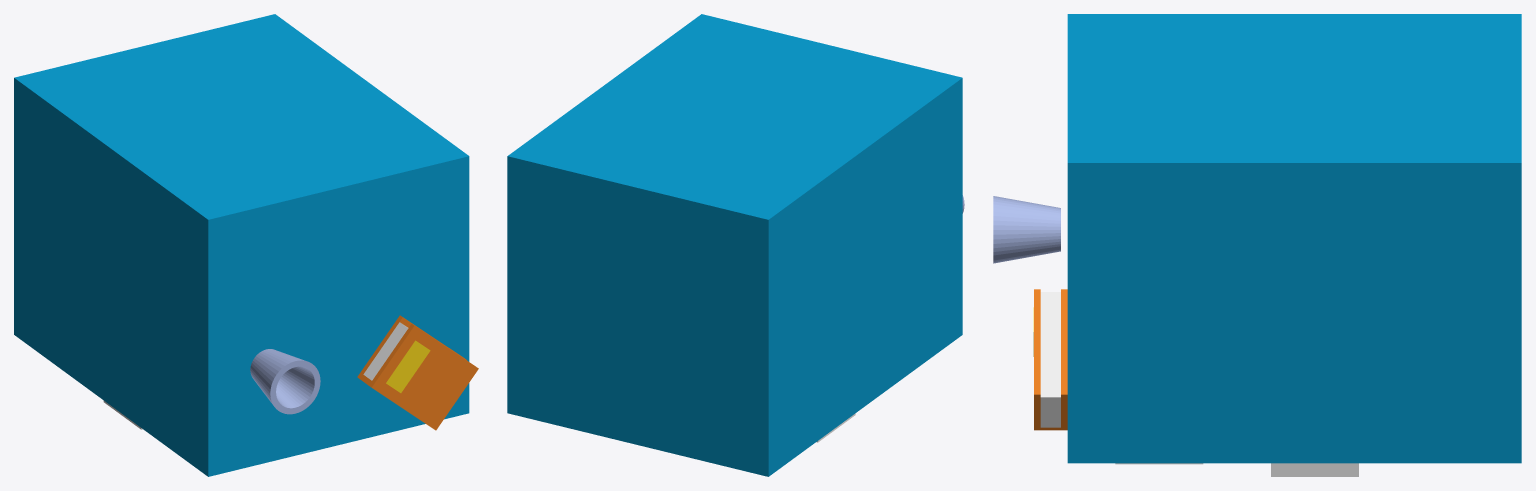
Rendered from tinker.obj.
The picture shows the model from 3 angles, left to right: view 1: azimuth 30°, elevation 25°; view 2: azimuth 150°, elevation 25°; view 3: azimuth 270°, elevation 25°; orthographic projection. The views are drawn at different scales.
Visible parts, largest first — view 1: group_0_40919, group_0_16089887, group_0_11452141, group_0_16768282, group_0_16448250; view 2: group_0_40919; view 3: group_0_40919, group_0_16448250, group_0_11452141, group_0_16089887.
Boxes of the visible parts, bbox=[...] form: group_0_40919: bbox=[14, 14, 469, 476]; group_0_16089887: bbox=[357, 315, 478, 430]; group_0_11452141: bbox=[250, 349, 320, 414]; group_0_16768282: bbox=[386, 340, 430, 392]; group_0_16448250: bbox=[103, 322, 408, 429]; group_0_40919: bbox=[507, 14, 962, 476]; group_0_40919: bbox=[1067, 14, 1521, 463]; group_0_16448250: bbox=[1040, 292, 1358, 476]; group_0_11452141: bbox=[993, 196, 1060, 263]; group_0_16089887: bbox=[1034, 289, 1067, 430].
Bounding box in the file's own units: 52 × 56 × 78.
